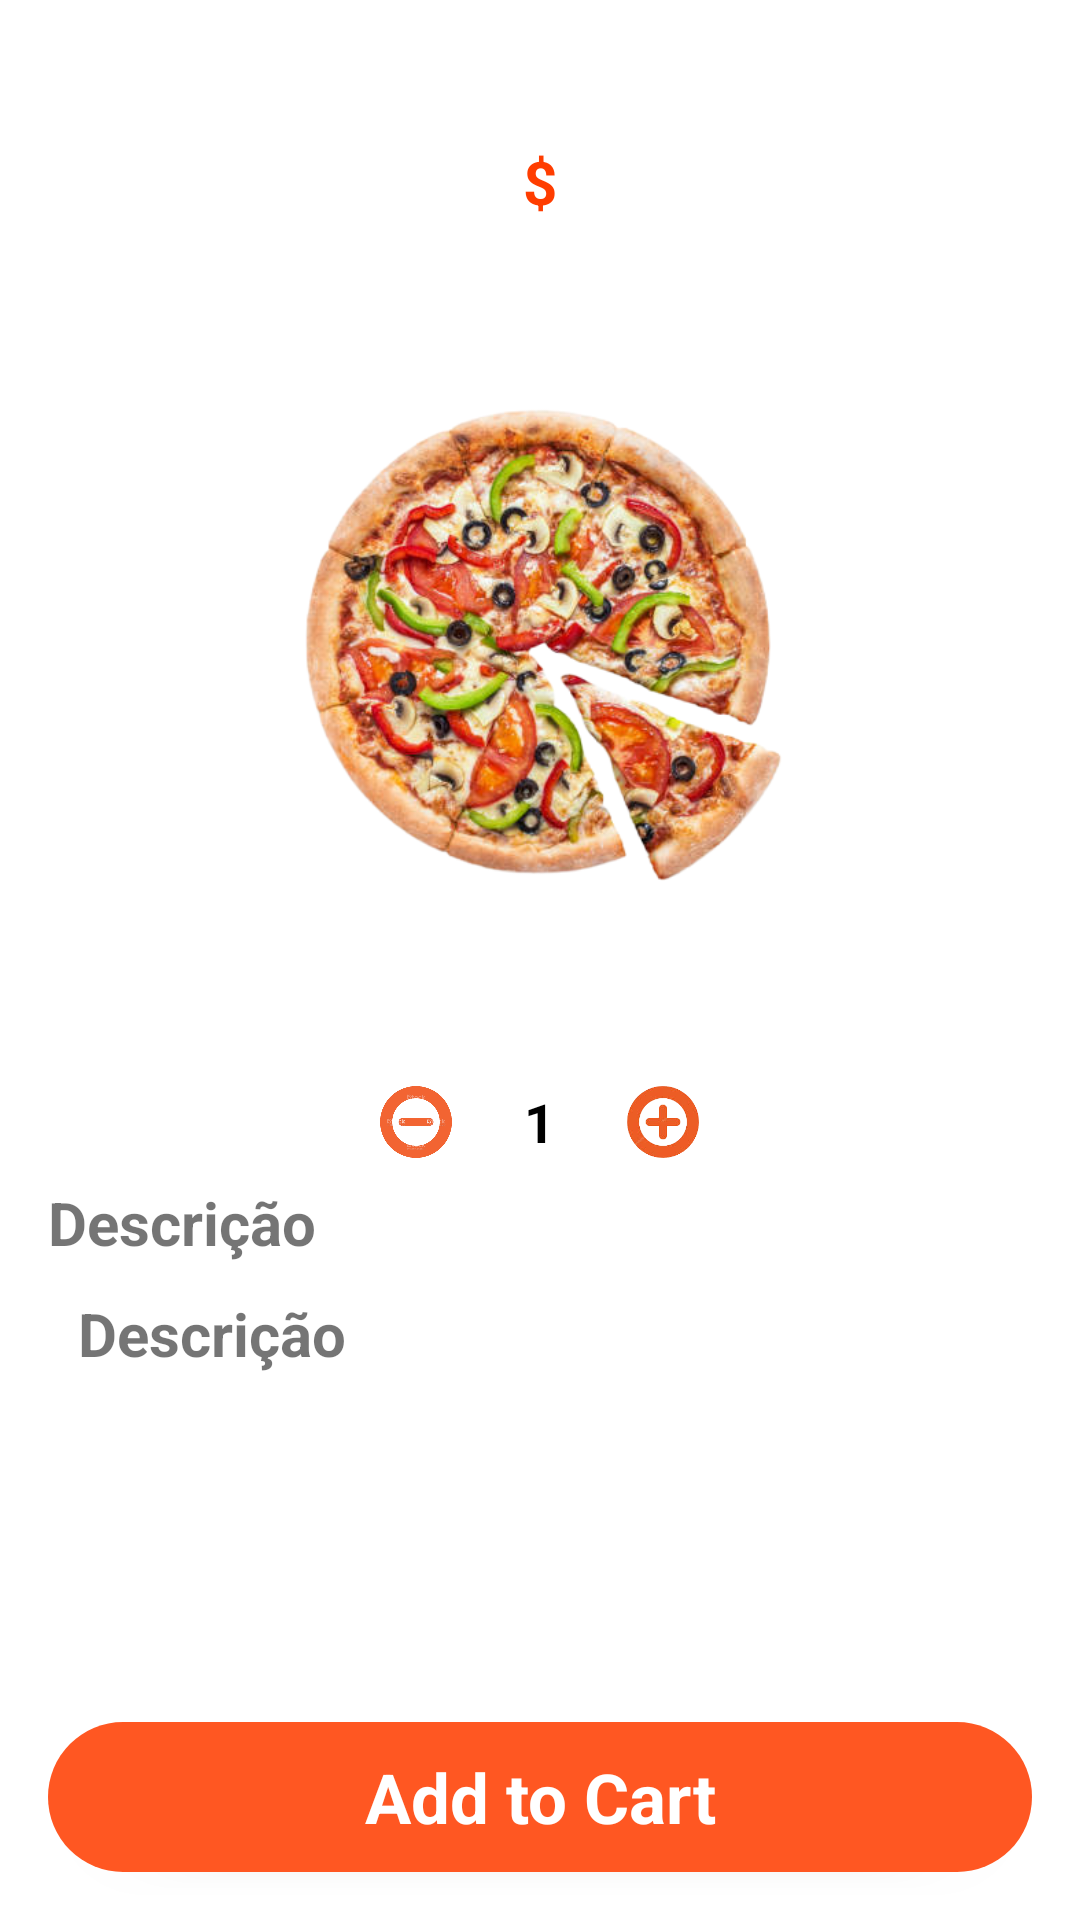

Screen size 1080px x 1920px. Icon name, then its box in pixels as (x1, y1, x2, y2):
negativo: (380, 1086, 452, 1158)
positivo: (627, 1086, 699, 1158)
